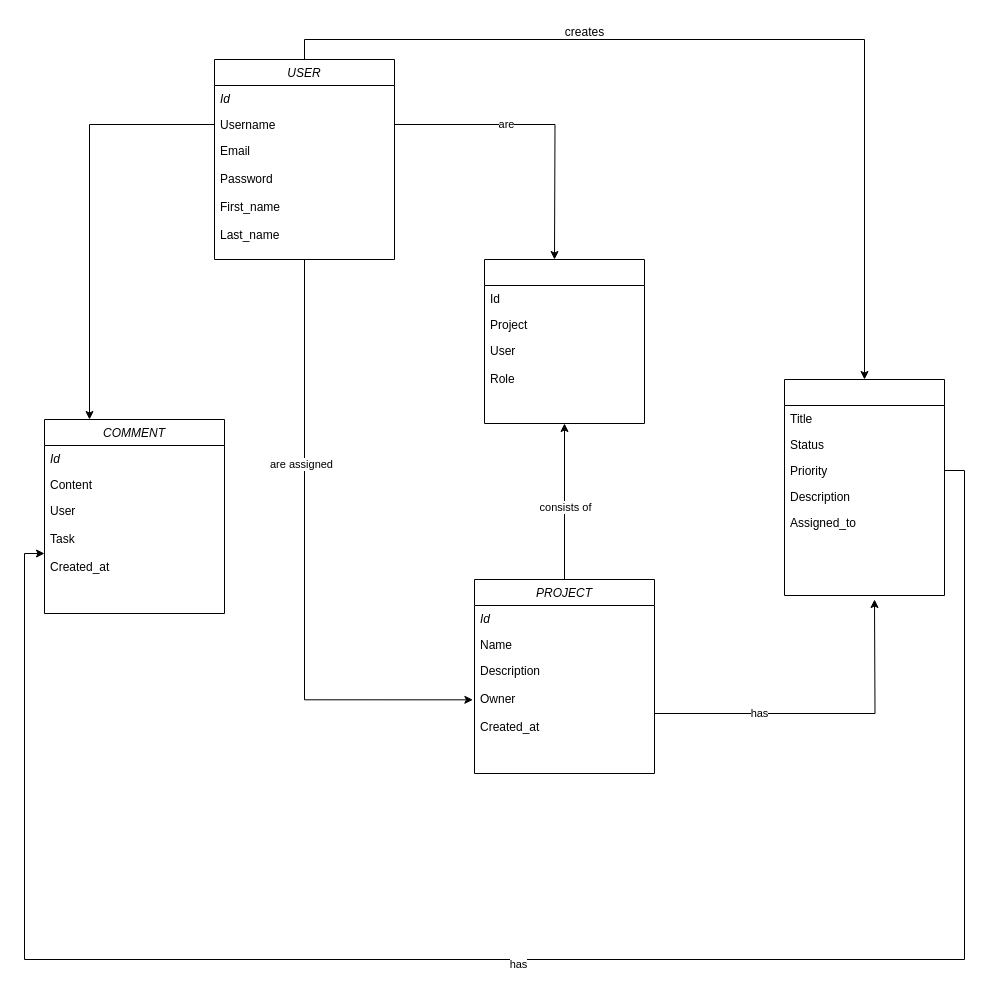
The diagram is 990 pixels wide and 987 high, and some of its shapes have lost their labels. The box of each missing label's shape, as (x1, y1, x2, y2) in pixels:
PROJECTMEMBER: (484, 258, 644, 424)
TASK: (784, 378, 944, 596)
